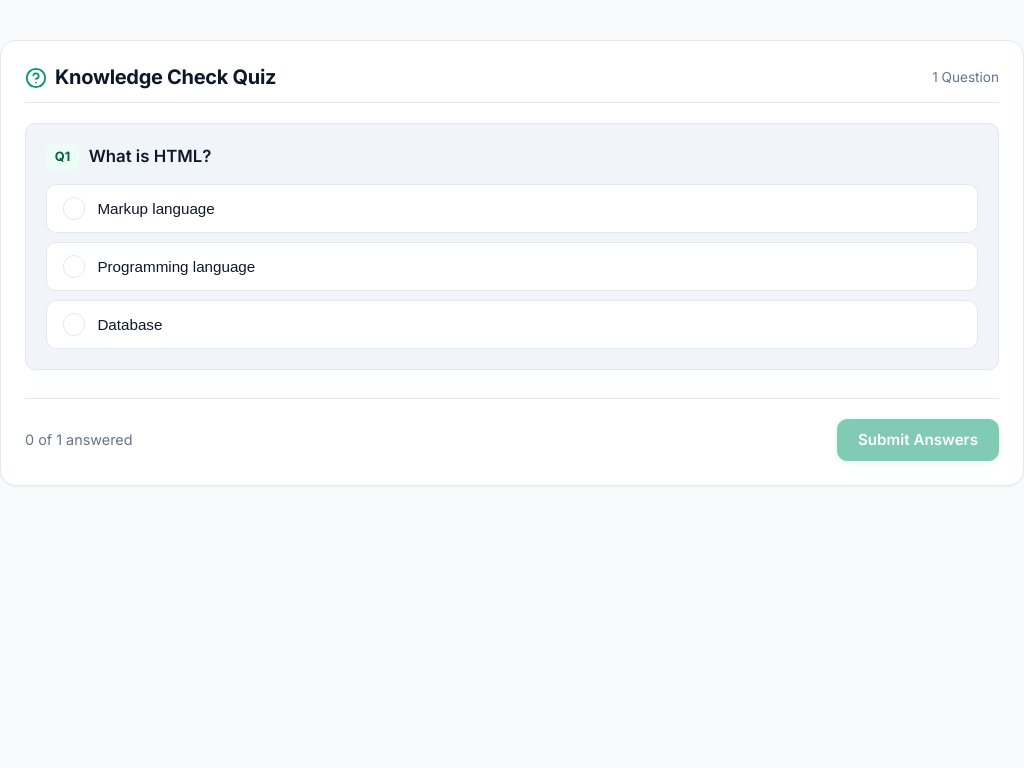
Test: Quiz Component › renders quiz questions, enables selecting answers, and shows feedback upon submit
Expected: the text "What is HTML?" is shown, [89,144,211,168]
Expected: the button "Submit Answers" is disabled, [837,419,999,461]
# Select correct option
What coordinates should you click on to do the following:
click the button "A Markup language"
I would click on:
 (156, 209)
Its box is [46,184,978,233].
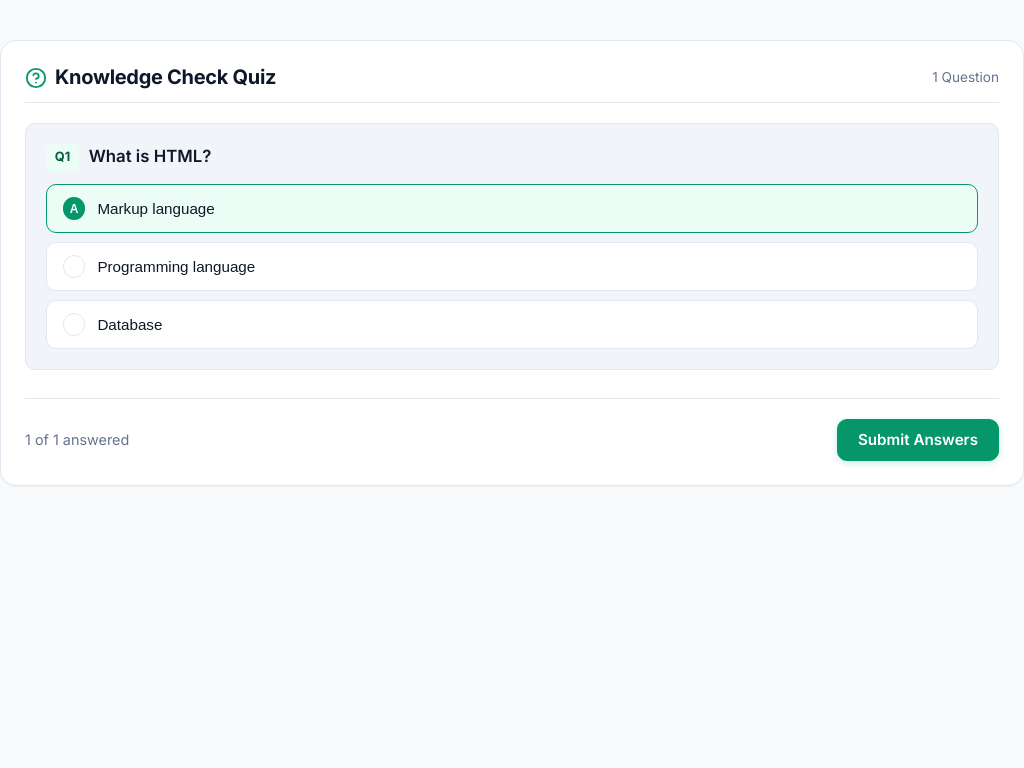
Now the button "Submit Answers" is enabled
What coordinates should you click on to do the following:
click the button "Submit Answers"
I would click on:
 (918, 440)
Its box is [837,419,999,461].
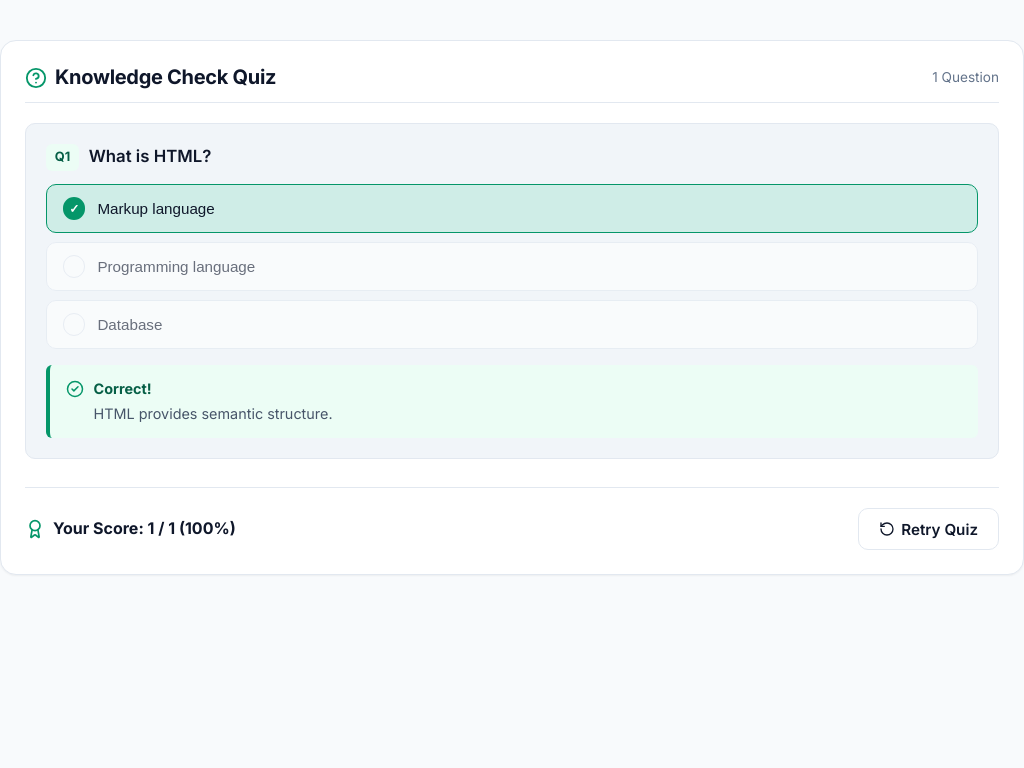
Now the text "Correct!" is shown, box [94,380,152,397]
Now the text "Correct! HTML provides semantic structure." is shown, box [94,378,333,425]
Now the text "Your Score: 1 / 1 (100%)" is shown, box [53,516,236,542]
